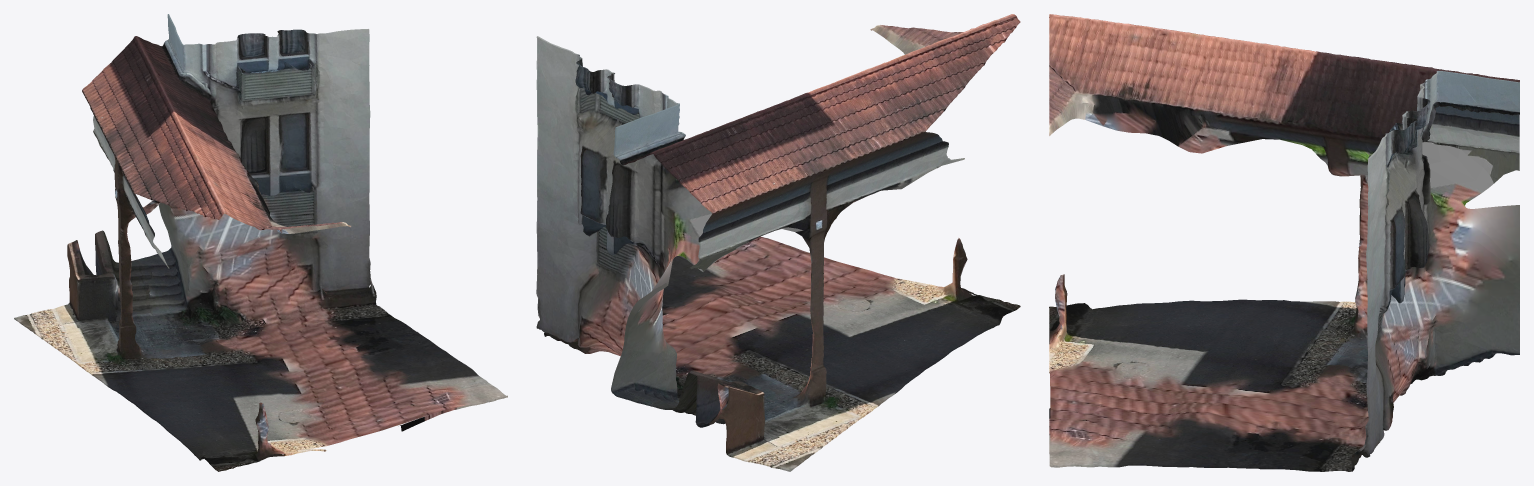
3 renders of one model, left to right at view 1: azimuth 30°, elevation 25°; view 2: azimuth 150°, elevation 25°; view 3: azimuth 270°, elevation 25°, orthographic. The views are drawn at different scales.
Visible parts, largest first — view 1: node_153; view 2: node_153; view 3: node_153.
Part boxes in pixels (bbox=[...]): node_153: bbox=[14, 14, 507, 471]; node_153: bbox=[536, 14, 1020, 471]; node_153: bbox=[1049, 14, 1519, 471].
Size of the model in its own units: 9 by 8.21 by 10.99.
1 material, 1 textured.
